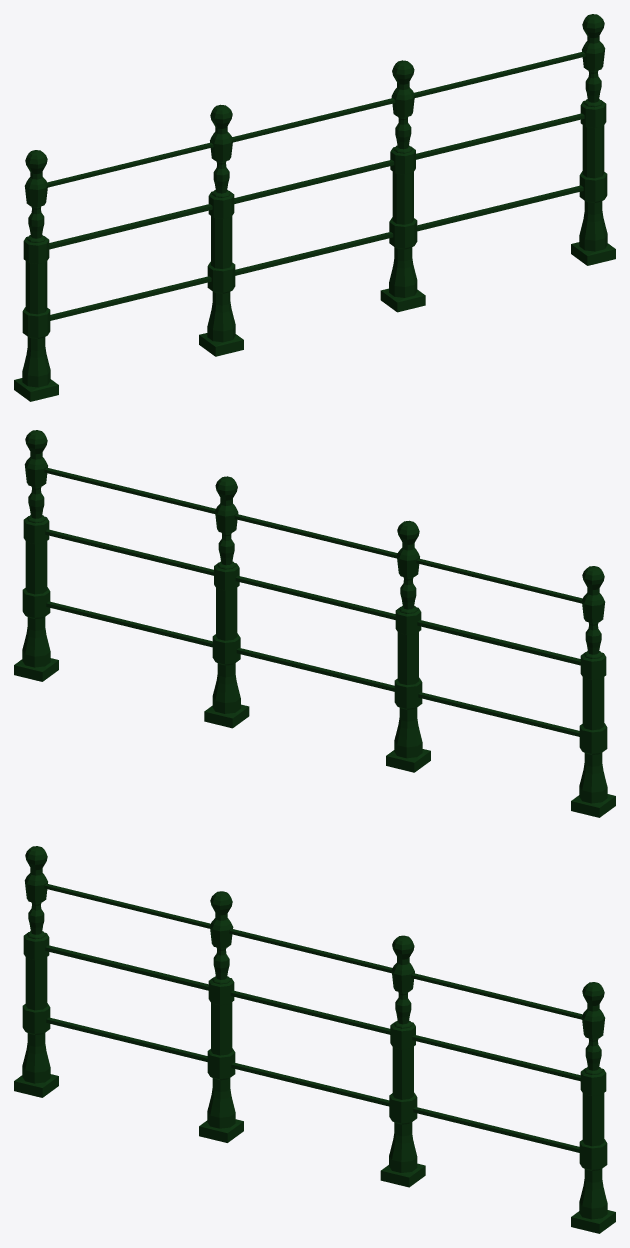
Rendered from grachthekTEXTURED.fbx.
The picture shows the model from 3 angles, top to bottom: view 1: azimuth 30°, elevation 25°; view 2: azimuth 150°, elevation 25°; view 3: azimuth 330°, elevation 25°; orthographic projection.
Parts seen in each view (by area): view 1: Cylinder; view 2: Cylinder; view 3: Cylinder.
Part boxes in pixels (box(x1,y1,x2,y2)): Cylinder: box(14, 14, 615, 401); Cylinder: box(14, 430, 615, 817); Cylinder: box(14, 846, 615, 1233).
Bounding box in the file's own units: 966 × 380 × 47.03.
